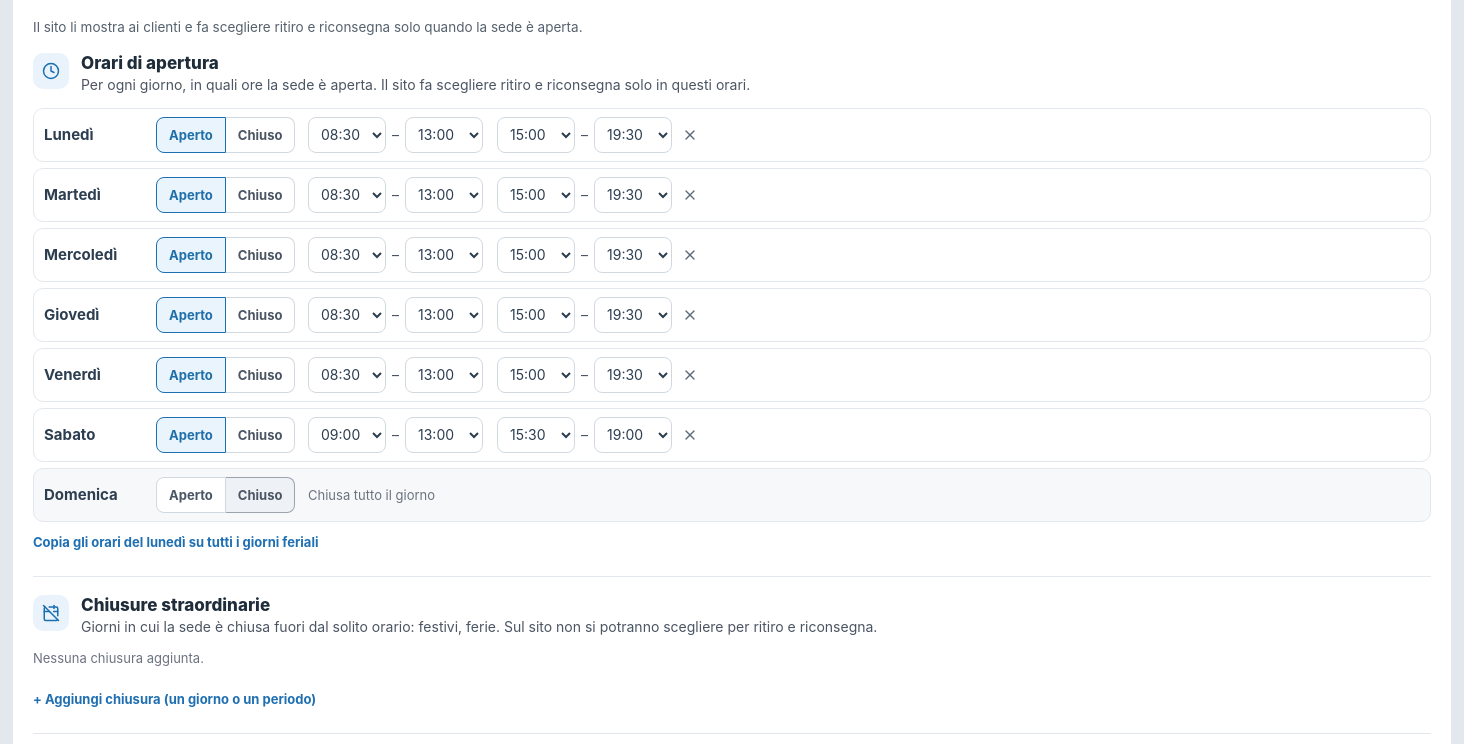
Test case: chiudere un giorno, copiare il lunedi' e vedere l'anteprima del sito
This screenshot has width=1464, height=744.
Click the button "Chiuso" in the row of "Mercoledì" at (261, 254), box top-left (226, 236), bottom-right (295, 272)
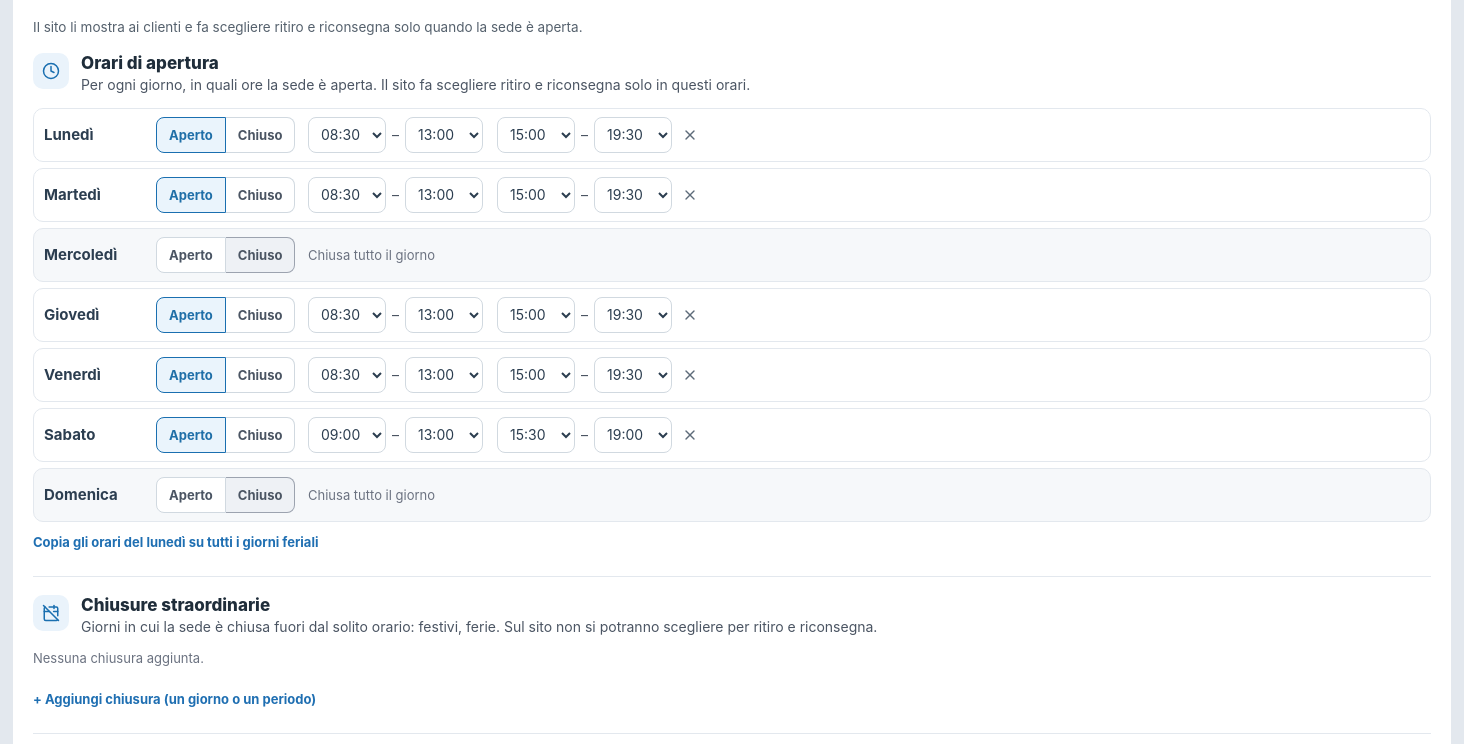
Click the button "Copia gli orari del lunedì su tutti i giorni feriali" at (176, 542), box top-left (33, 530), bottom-right (318, 554)
(page scrolled)
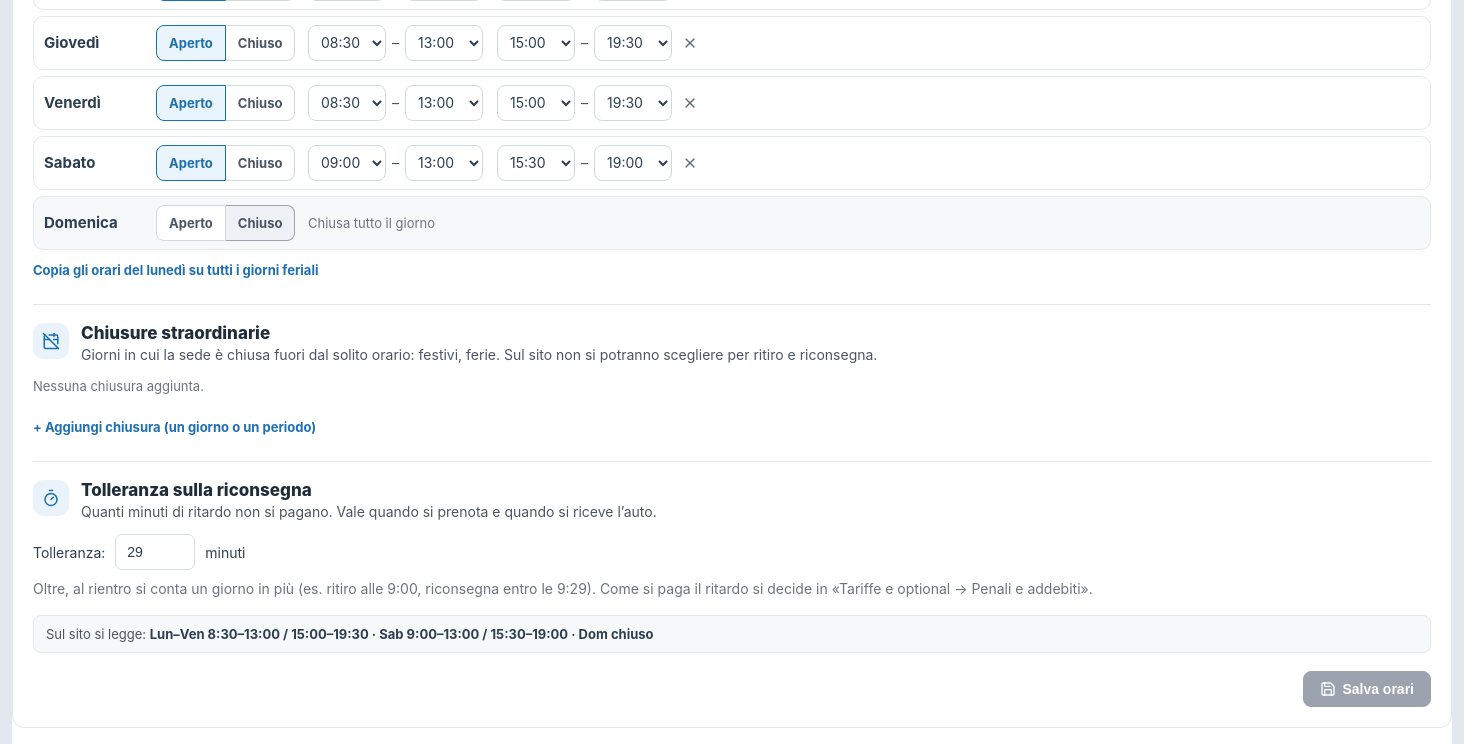
Check: the text "Lun–Ven 8:30–13:00 / 15:00–19:30" is shown, box top-left (150, 626), bottom-right (654, 642)
Check: the button "Salva orari" is disabled, box top-left (1303, 671), bottom-right (1431, 707)
